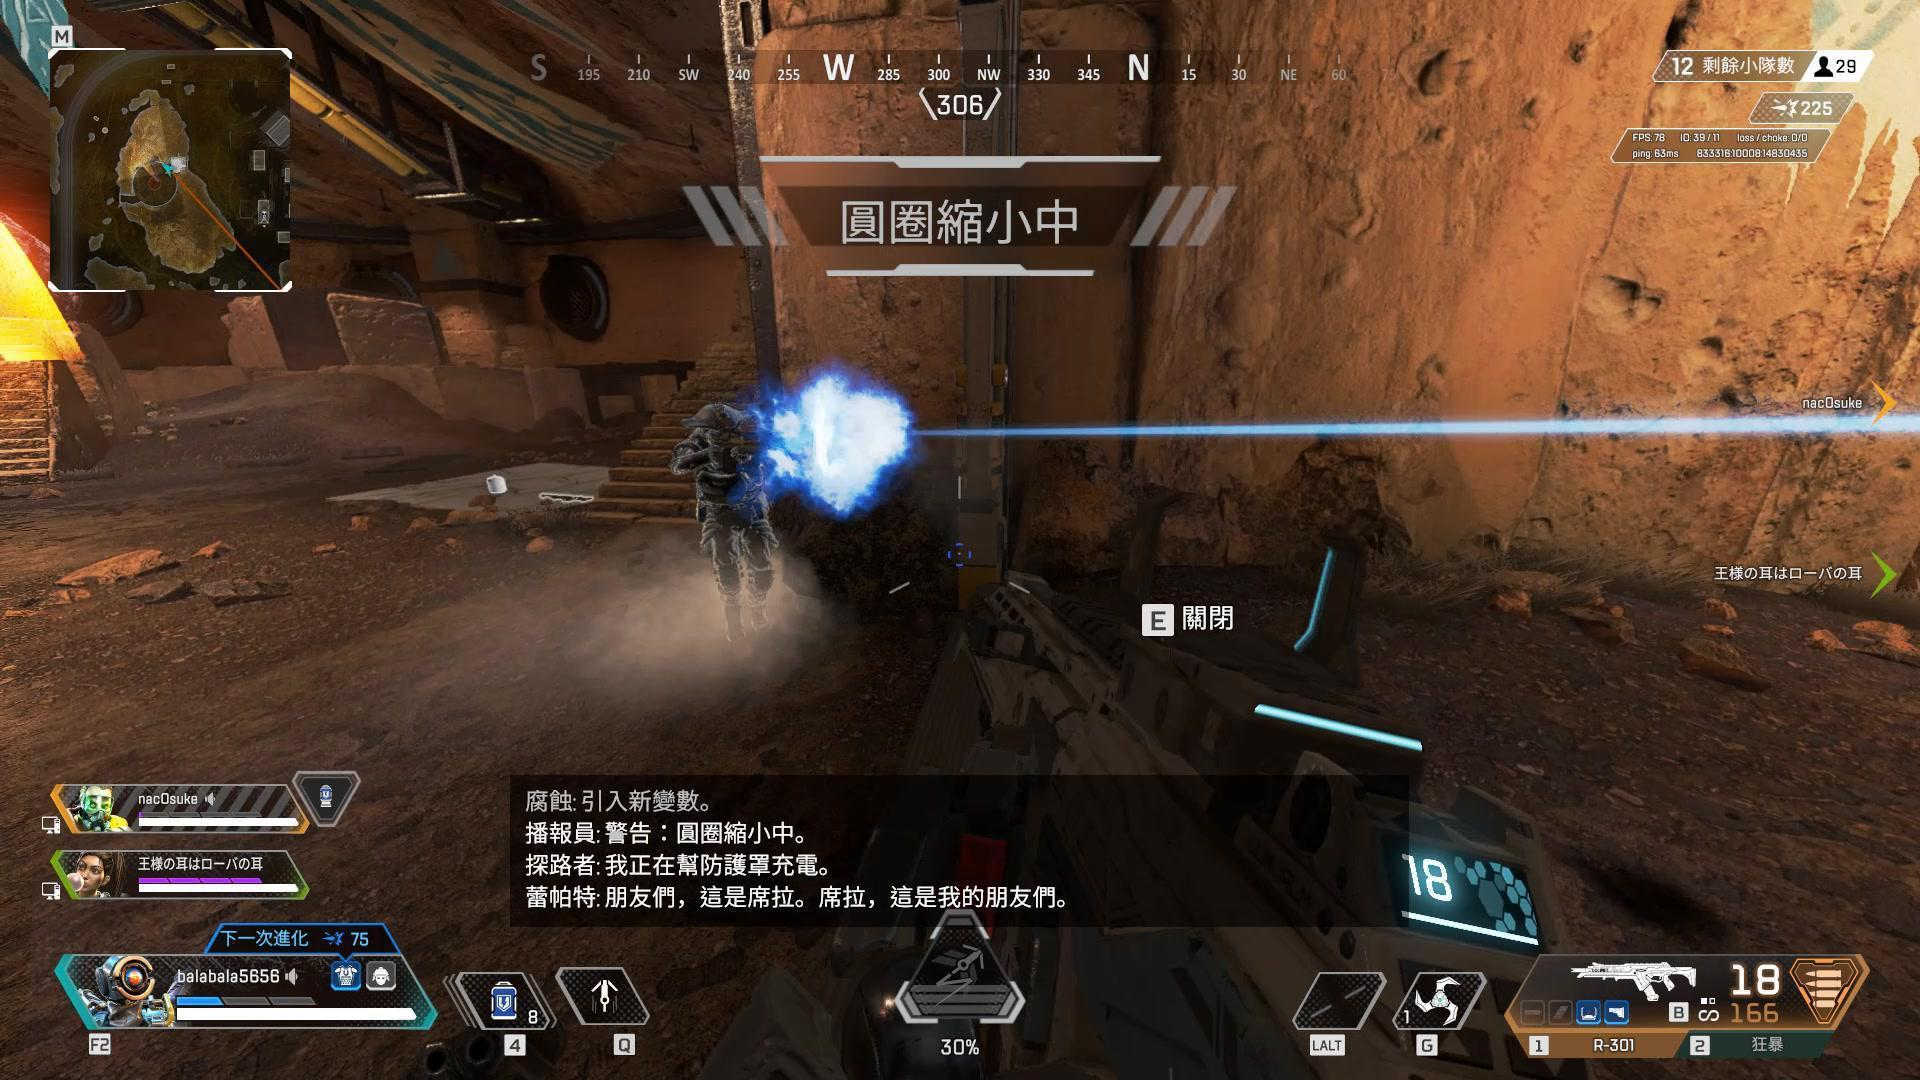avatar: (671, 399, 788, 647)
object: (765, 373, 916, 521)
